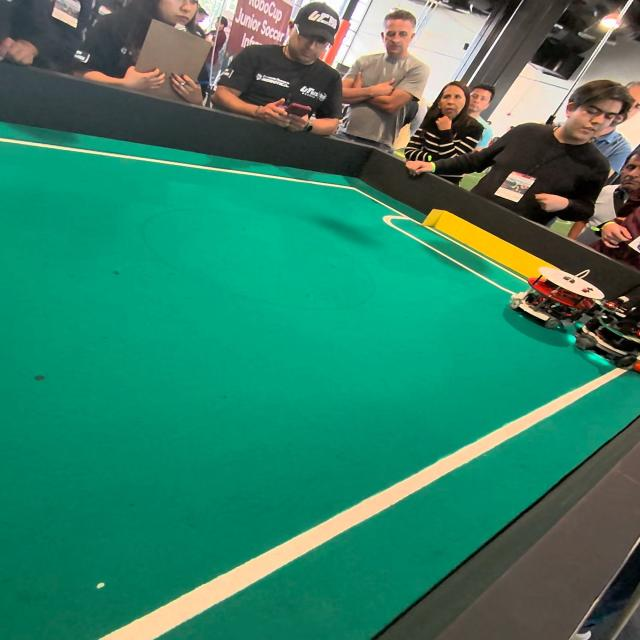Robot: (576, 283, 640, 377), (507, 267, 582, 333)
